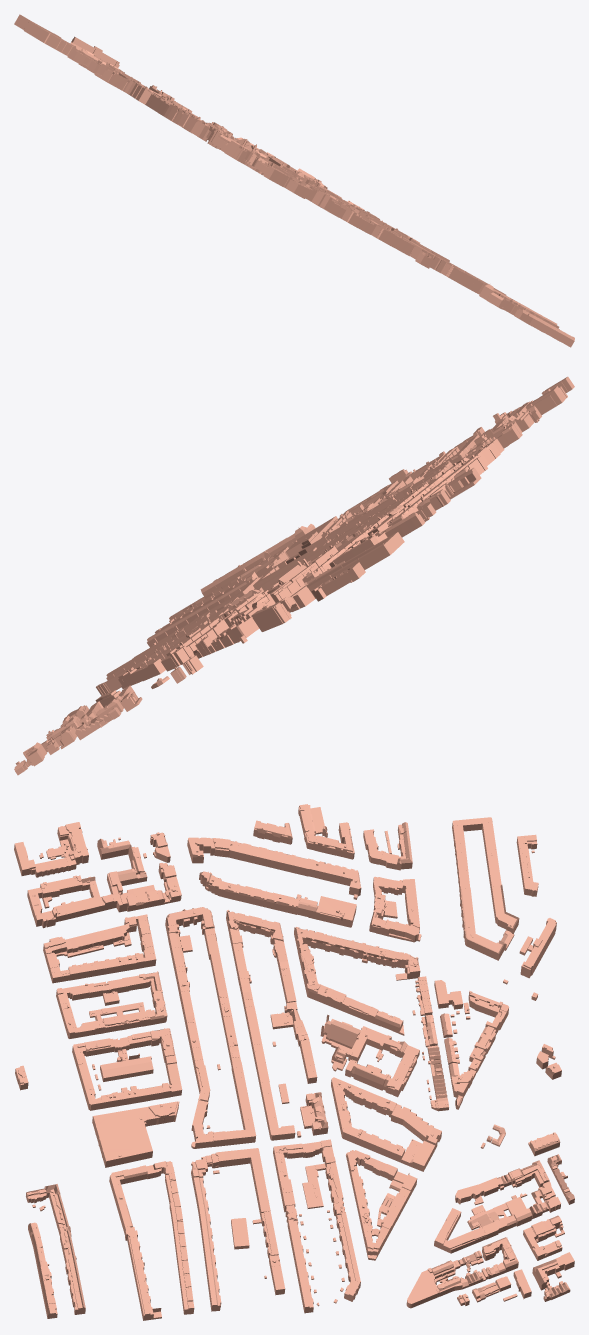
The picture shows the model from 3 angles, top to bottom: view 1: azimuth 30°, elevation 25°; view 2: azimuth 150°, elevation 25°; view 3: azimuth 270°, elevation 25°; orthographic projection. The views are drawn at different scales.
Bounding box in the file's own units: 1.75e+07 × 1.31e+07 × 2.06e+07.
